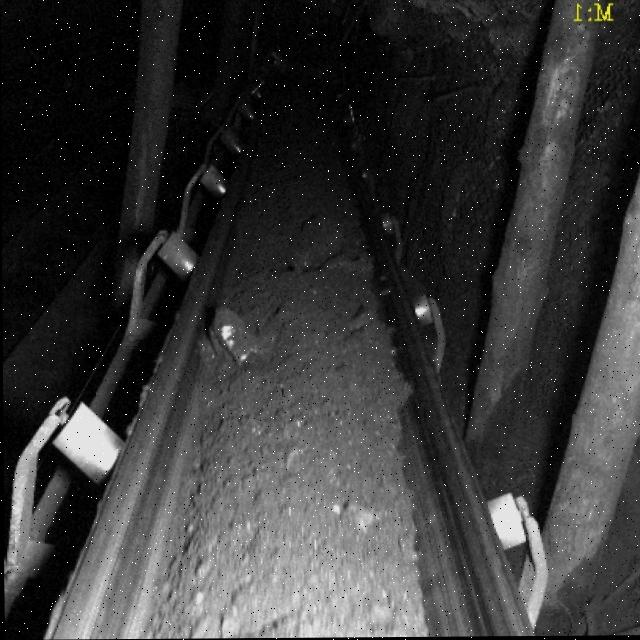large_sized_coal: (207, 311, 259, 366)
